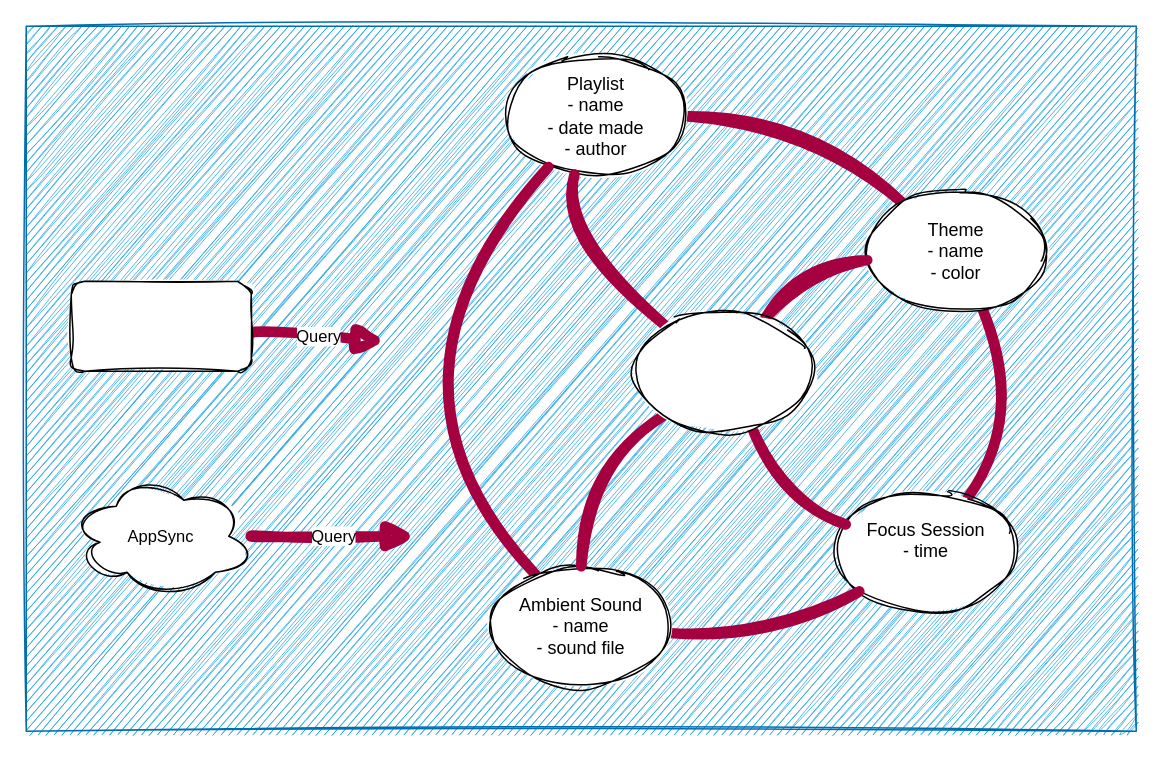
The diagram is 1163 pixels wide and 758 high, and some of its shapes have lost their labels. The centre of each missing label's shape, as x and y in pixels:
Amplify: (160,325)
Customer - name - photo: (723,370)
